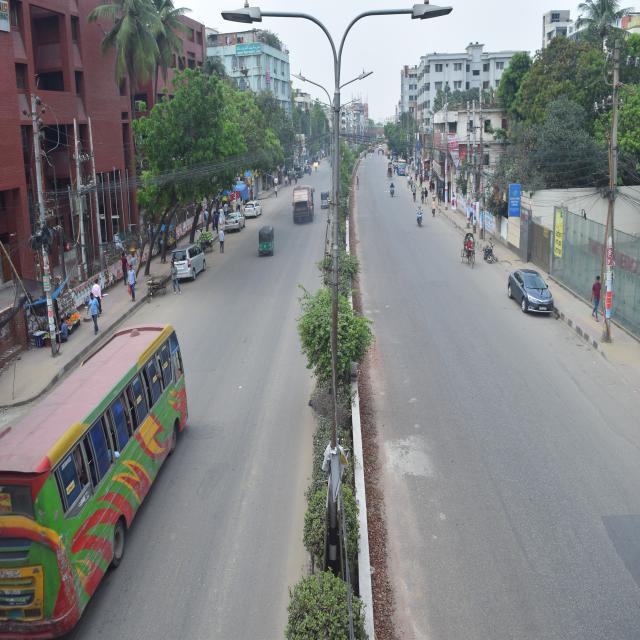bus: (0, 328, 210, 602)
car: (503, 258, 559, 328), (224, 204, 250, 235), (242, 195, 266, 218)
microbus: (168, 239, 209, 293)
motorbike: (482, 235, 502, 264), (408, 208, 428, 232), (388, 178, 398, 200)
pickup-van: (285, 182, 320, 233)
truck: (396, 153, 410, 180)
